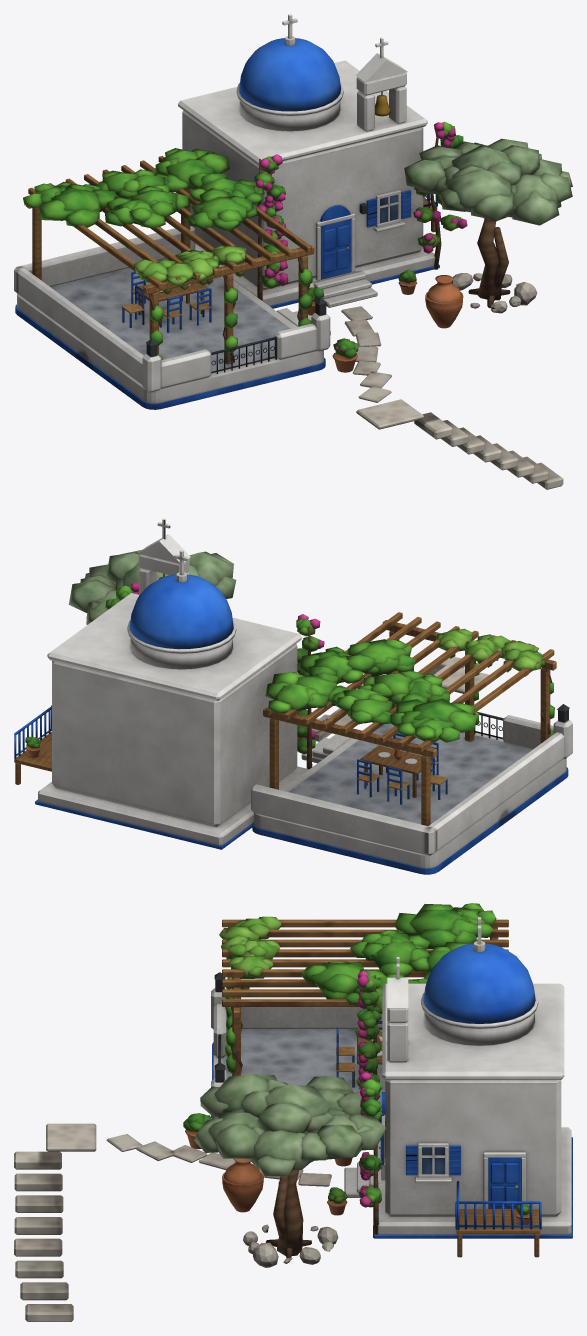
Rendered from SantoriniChapel_Buildings.fbx.
3 renders of one model, top to bottom at view 1: azimuth 30°, elevation 25°; view 2: azimuth 150°, elevation 25°; view 3: azimuth 270°, elevation 25°, orthographic. The views are drawn at different scales.
Parts seen in each view (by area): view 1: S02_Chapel, S01_Terrace, S06_Pergola, S10_OliveTree, S03_Dome, S05_CliffStairs, S04_BellTower, S09_Bougainvillea_0, S07_Dining, S09_Bougainvillea_1, S10_Amphora, S09_Pot_1; view 2: S02_Chapel, S01_Terrace, S06_Pergola, S03_Dome, S10_OliveTree, S07_Dining, S04_BellTower, S08_Balcony, S09_Bougainvillea_0, S05_CliffStairs; view 3: S02_Chapel, S06_Pergola, S10_OliveTree, S05_CliffStairs, S01_Terrace, S03_Dome, S08_Balcony, S09_Bougainvillea_0, S09_Bougainvillea_1, S04_BellTower, S10_Amphora, S07_Dining.
Part boxes in pixels (box(x1,y1,x2,y2)): S02_Chapel: box(178, 60, 439, 308); S01_Terrace: box(14, 226, 330, 409); S06_Pergola: box(23, 148, 314, 364); S10_OliveTree: box(404, 138, 572, 313); S03_Dome: box(236, 14, 343, 131); S05_CliffStairs: box(341, 306, 563, 489); S04_BellTower: box(356, 37, 407, 131); S09_Bougainvillea_0: box(254, 154, 288, 300); S07_Dining: box(122, 271, 326, 356); S09_Bougainvillea_1: box(413, 121, 467, 269); S10_Amphora: box(425, 275, 463, 328); S09_Pot_1: box(332, 338, 358, 372); S02_Chapel: box(35, 593, 308, 849); S01_Terrace: box(251, 712, 572, 874); S06_Pergola: box(263, 612, 556, 825); S03_Dome: box(127, 550, 236, 669); S10_OliveTree: box(68, 550, 236, 624); S07_Dining: box(356, 673, 569, 804); S04_BellTower: box(137, 518, 190, 595); S08_Balcony: box(14, 705, 51, 784); S09_Bougainvillea_0: box(296, 614, 324, 769); S05_CliffStairs: box(311, 657, 489, 741); S02_Chapel: box(344, 983, 572, 1238); S06_Pergola: box(219, 903, 508, 1075); S10_OliveTree: box(194, 1074, 385, 1267); S05_CliffStairs: box(14, 1123, 331, 1321); S01_Terrace: box(211, 988, 385, 1119); S03_Dome: box(421, 917, 538, 1045); S08_Balcony: box(455, 1181, 541, 1257); S09_Bougainvillea_0: box(355, 971, 381, 1100); S09_Bougainvillea_1: box(358, 1072, 382, 1237); S04_BellTower: box(387, 957, 408, 1062); S10_Amphora: box(222, 1158, 263, 1212); S07_Dining: box(214, 972, 382, 1089).
Size of the model in its own units: 13.77 by 9.72 by 13.35.
Materials: 1 (1 with a texture image).
